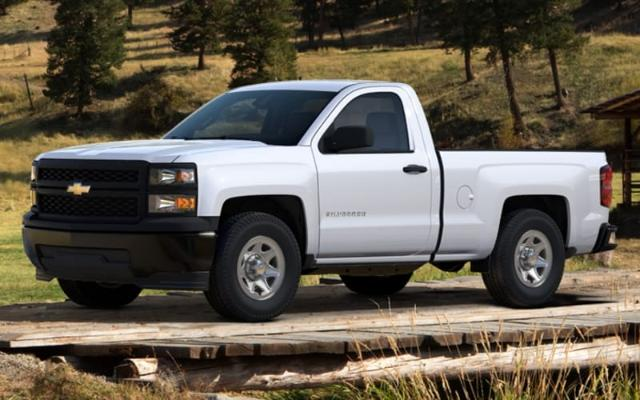pickup-truck: (23, 78, 618, 322)
